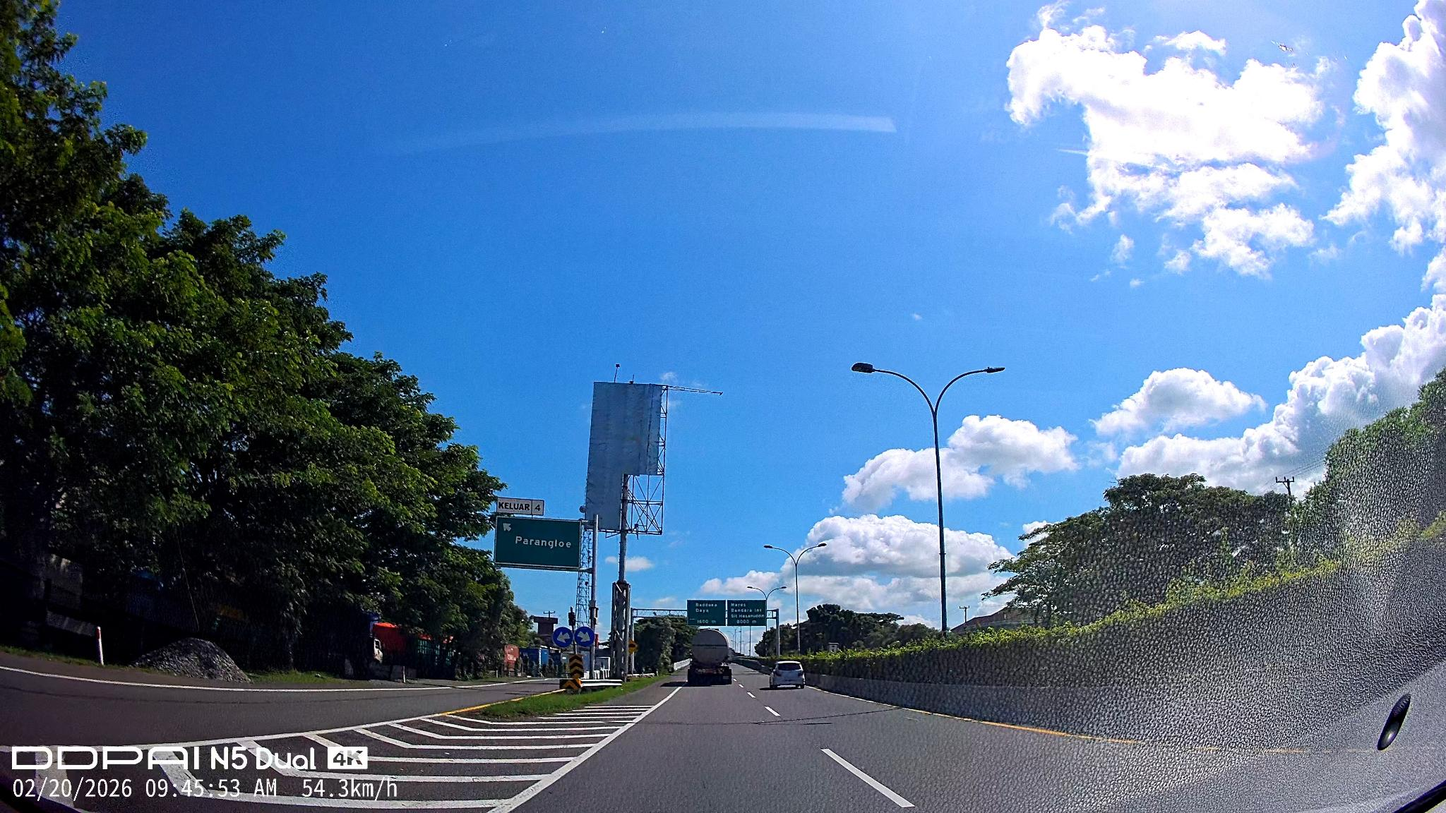rambu_teks: (493, 515, 582, 571)
